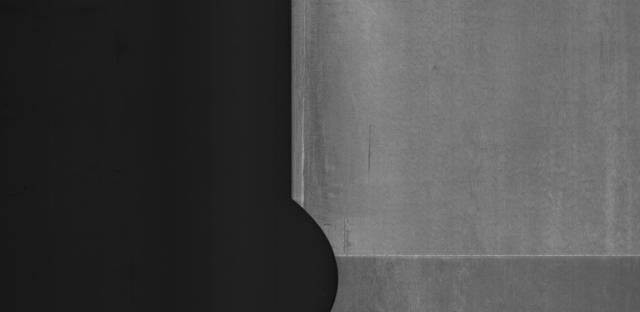crescent_gap: (254, 184, 349, 311)
welding_line: (323, 243, 640, 266)
